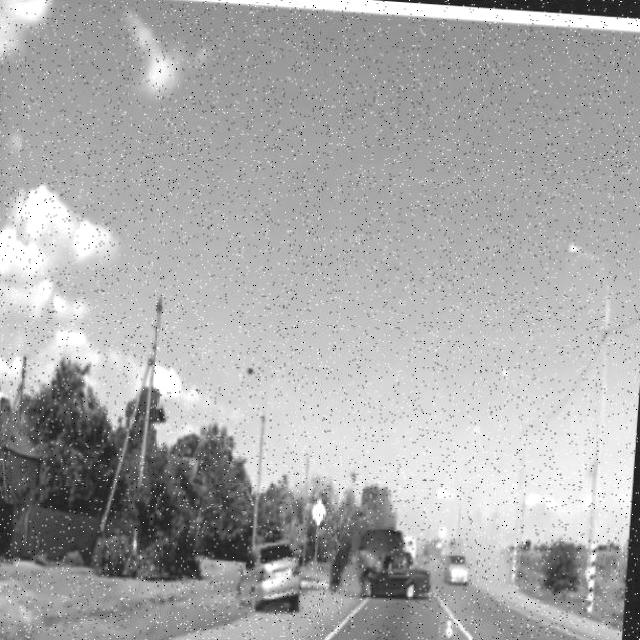accident: (326, 519, 438, 607)
